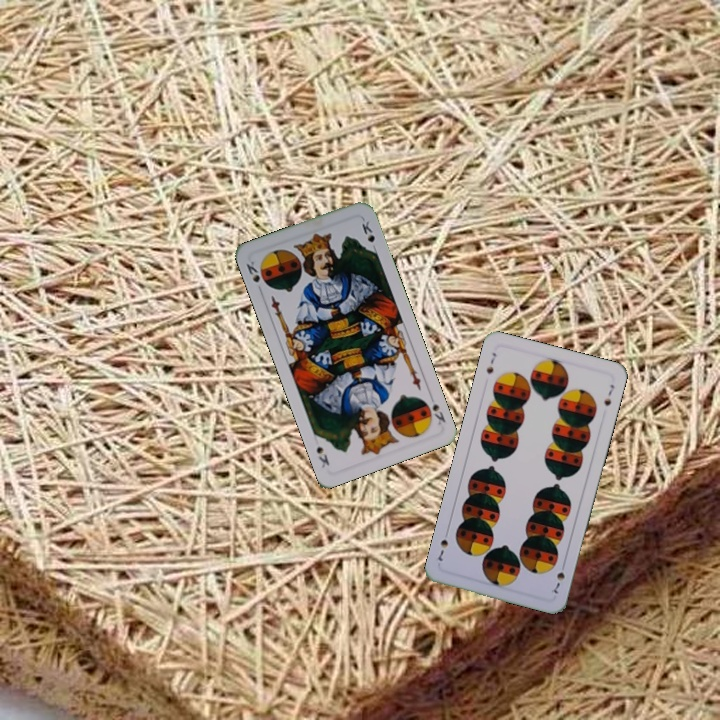S7: (549, 558, 568, 596), (482, 348, 499, 376)
SK: (420, 390, 448, 427), (242, 257, 263, 285)
